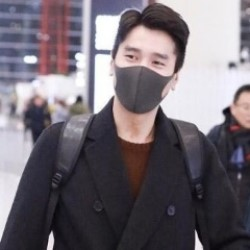mask: (110, 48, 176, 117)
